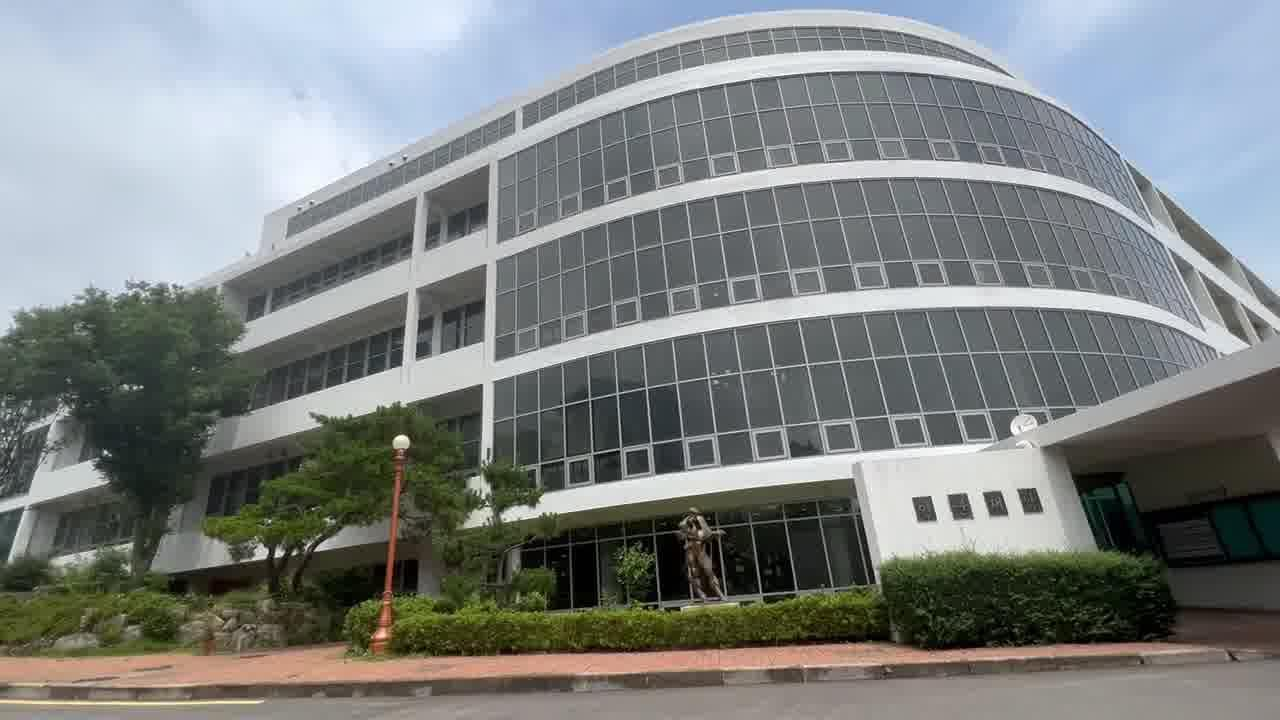building: (473, 43, 1076, 534)
